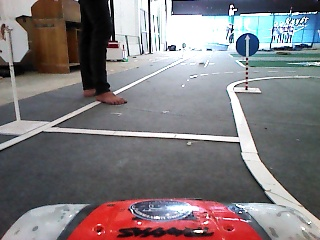straight: (234, 31, 262, 60)
